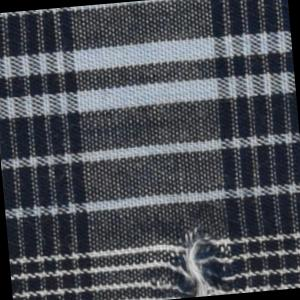Damage: (146, 220, 242, 300)
